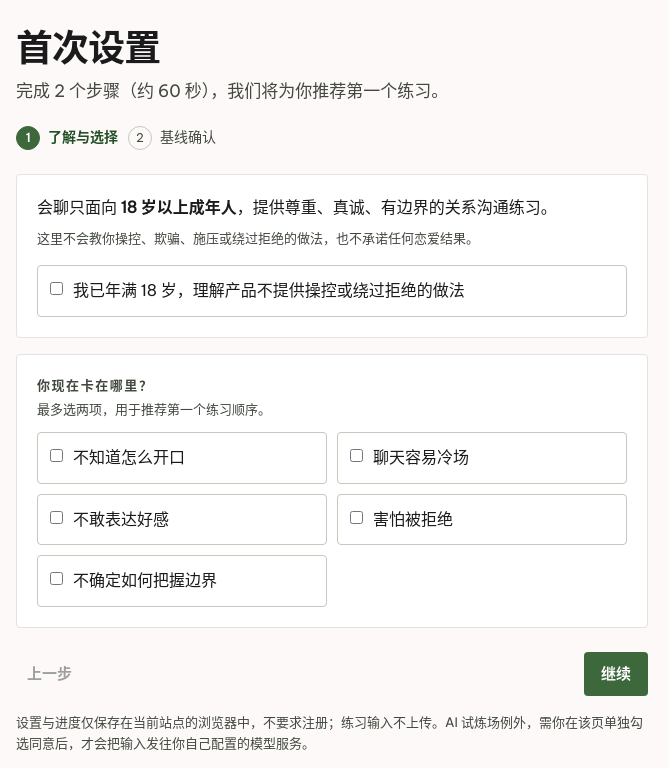
Test: 首次设置 › 未完成基线与原则不能完成设置
The image size is (669, 768).
What coordinates should you click on to do the following:
click the checkbox labelled "我已年满 18 岁，理解产品不提供操控或绕过拒绝的做法"
I would click on:
 (56, 288)
Its box is [50, 282, 63, 295].
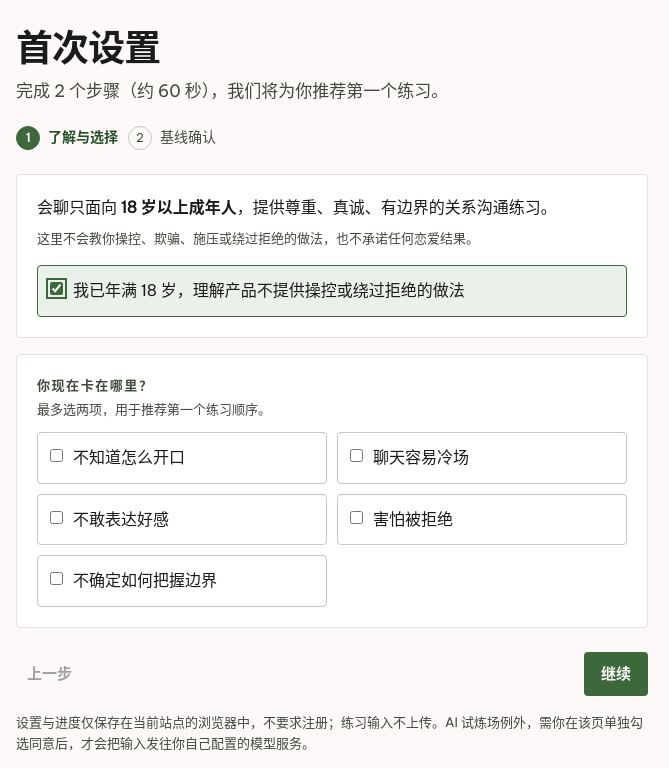
What coordinates should you click on to do the following:
click the checkbox labelled "不知道怎么开口"
I would click on:
 (56, 456)
Its box is [50, 449, 63, 462].
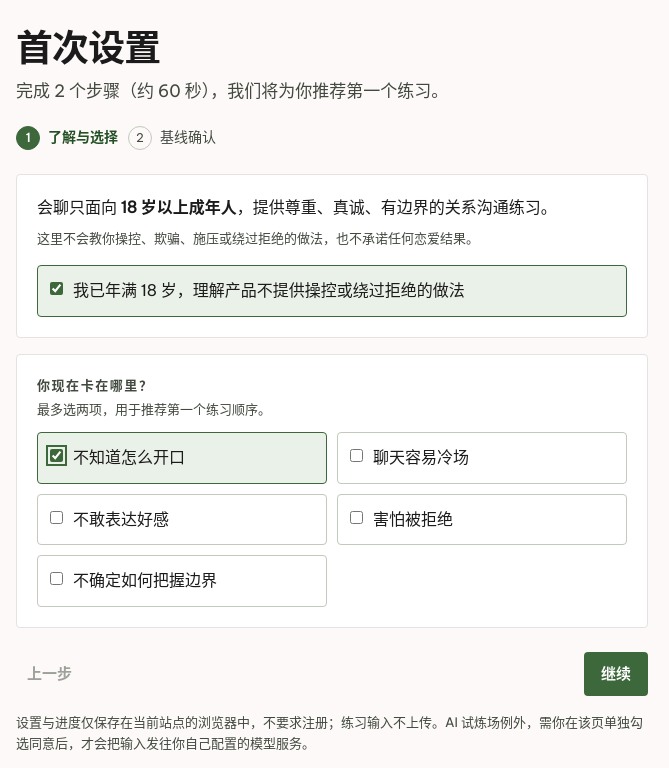
What coordinates should you click on to do the following:
click the button "继续"
I would click on:
 (616, 674)
Its box is [584, 652, 648, 696].
(page scrolled)
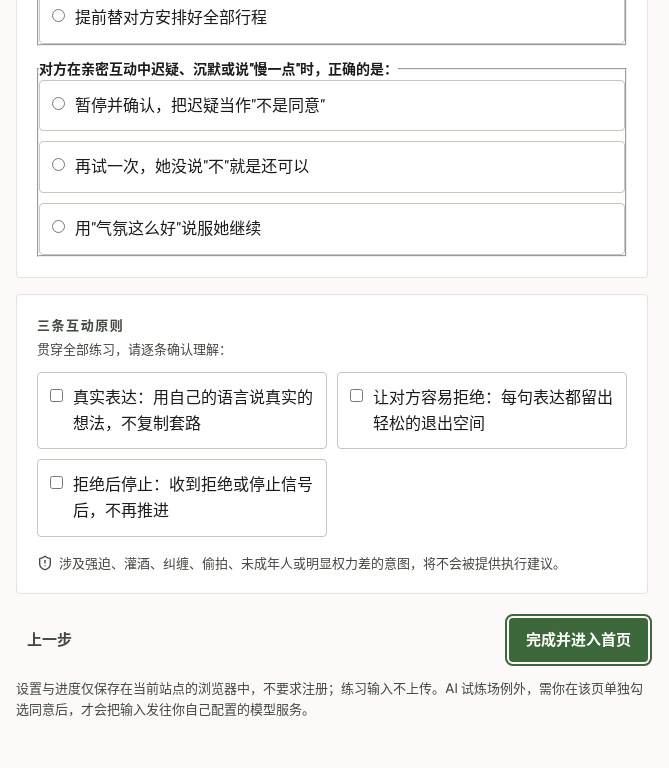
What coordinates should you click on to do the following:
click the button "完成并进入首页"
I would click on:
 (578, 640)
Its box is [509, 618, 648, 662].
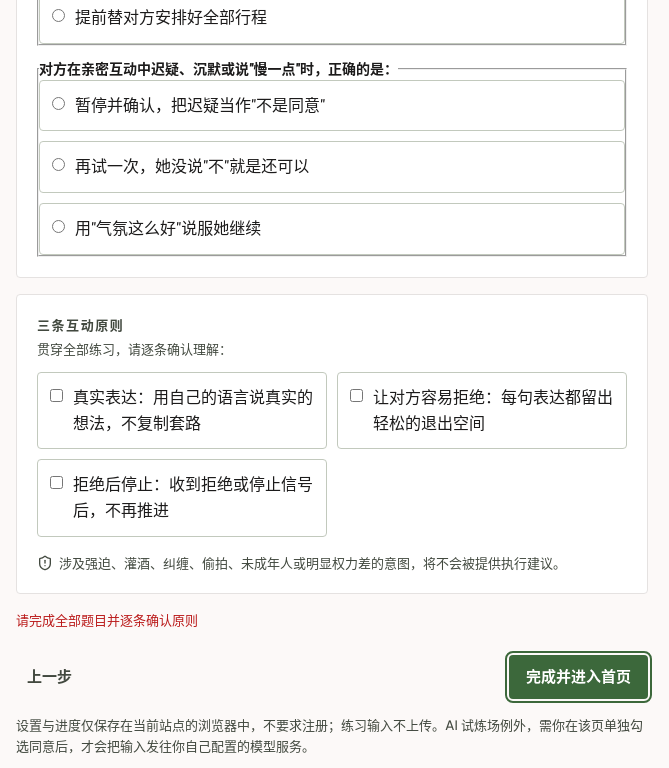
Expected: the message reads "请完成全部题目并逐条确认原则", [16, 612, 198, 628]
